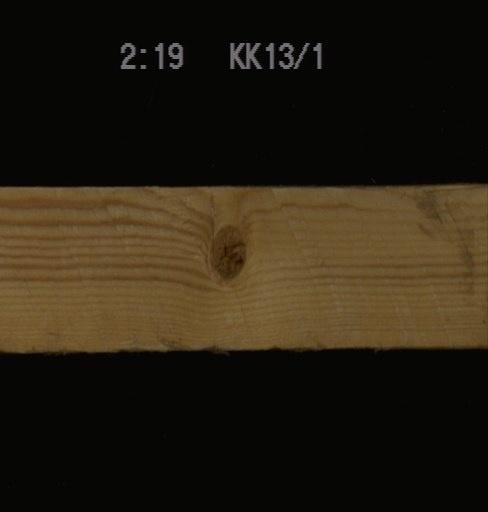sound_knot: (204, 223, 251, 281)
